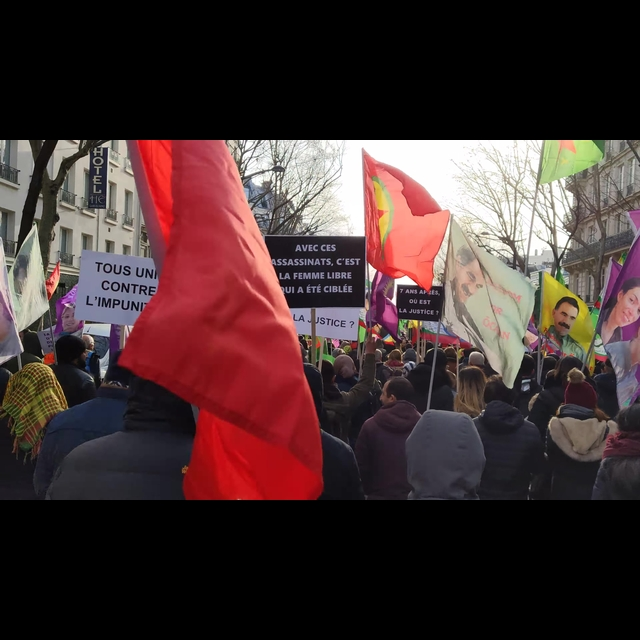APO: (552, 293, 583, 337)
